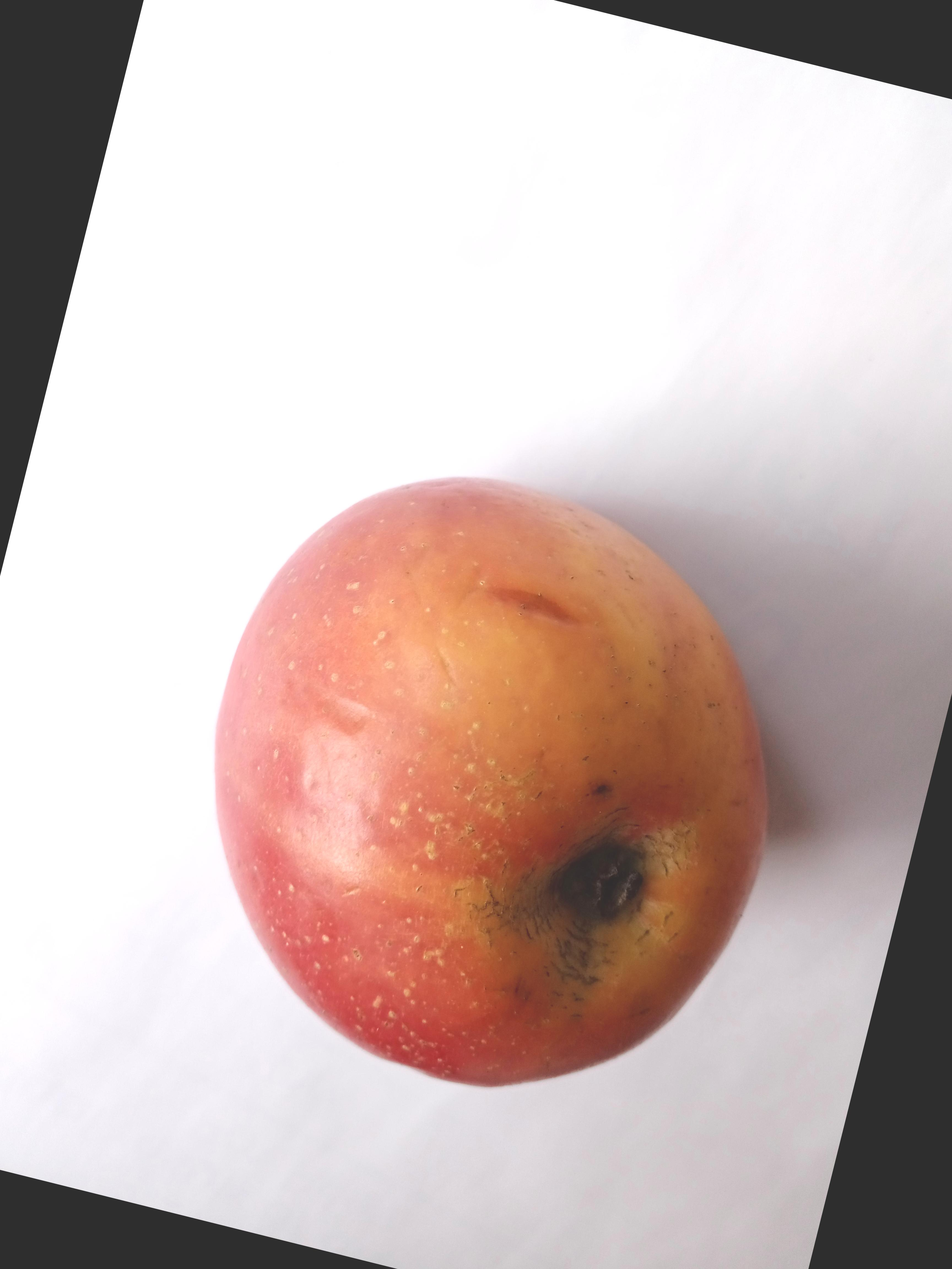Apple Ripe: (321, 270, 952, 1075)
